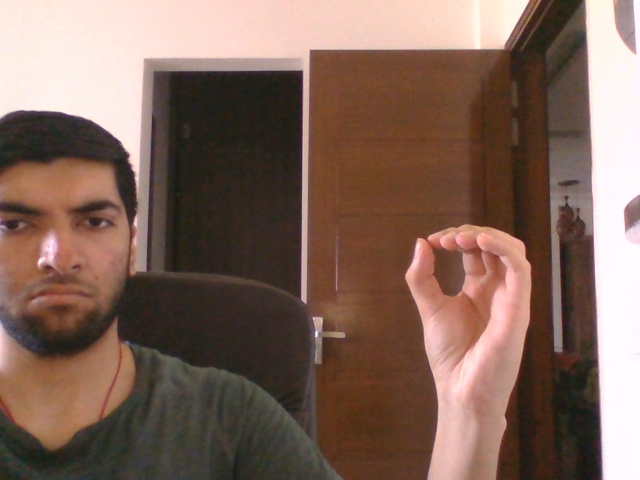LetterO: (404, 223, 532, 421)
